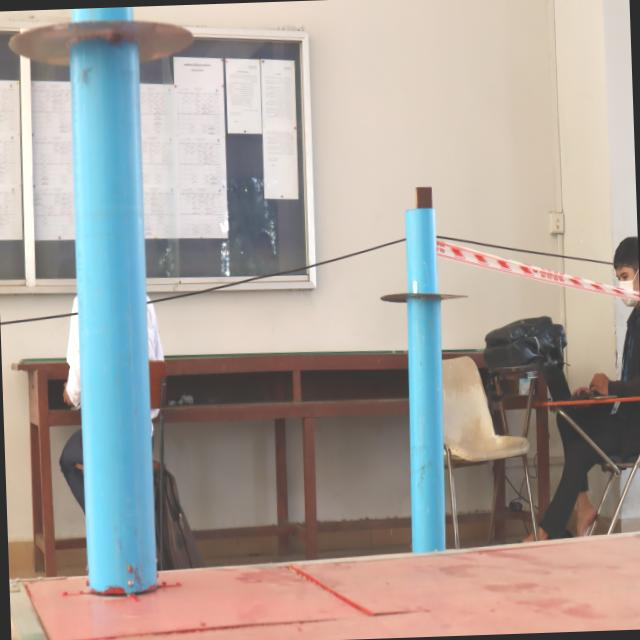pole: (0, 6, 204, 180), (372, 194, 476, 390)
